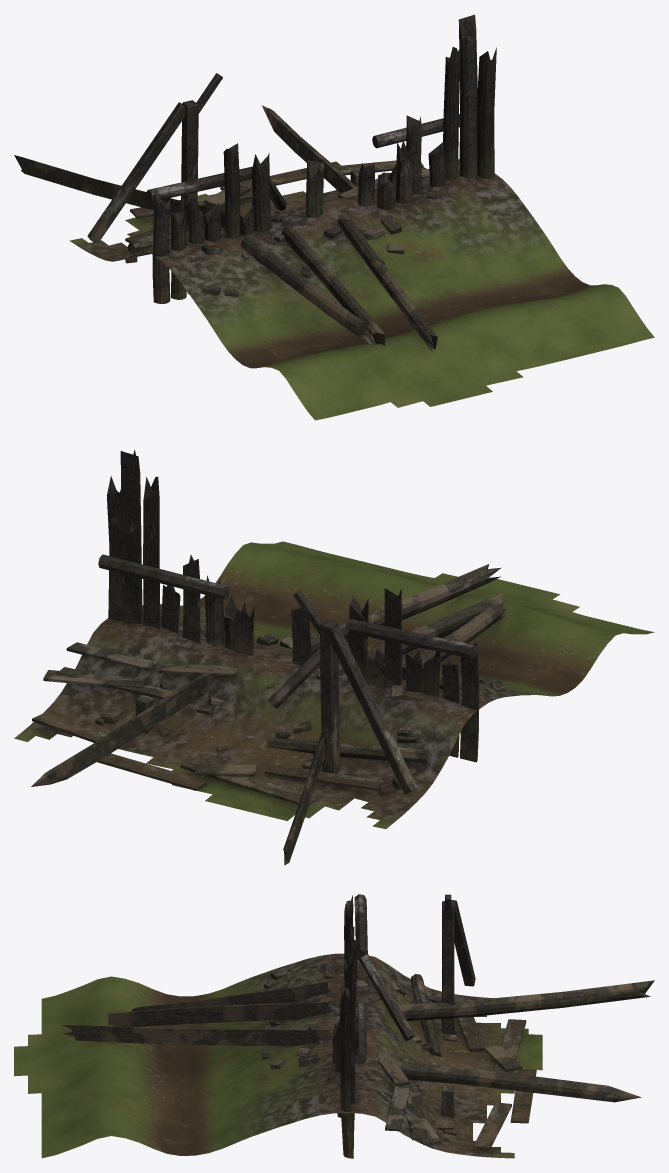
The model's file is palisade_ruin.glb.
3 views of the same model, one above another, from view 1: azimuth 30°, elevation 25°; view 2: azimuth 150°, elevation 25°; view 3: azimuth 270°, elevation 25° (orthographic). The views are drawn at different scales.
Parts seen in each view (by area): view 1: palisade_ruin_LOD0; view 2: palisade_ruin_LOD0; view 3: palisade_ruin_LOD0.
Boxes of the visible parts, x1,y1,x2,y2 form: palisade_ruin_LOD0: [14, 14, 654, 420]; palisade_ruin_LOD0: [14, 449, 654, 865]; palisade_ruin_LOD0: [14, 894, 654, 1158].
Size of what is drawn, in the model's own units: 6.35 by 3.5 by 10.19.
1 material, 1 textured.
